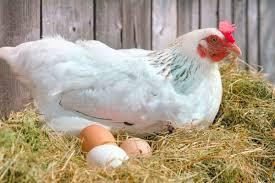egg: (86, 142, 130, 170), (80, 124, 116, 152), (121, 135, 152, 163)
